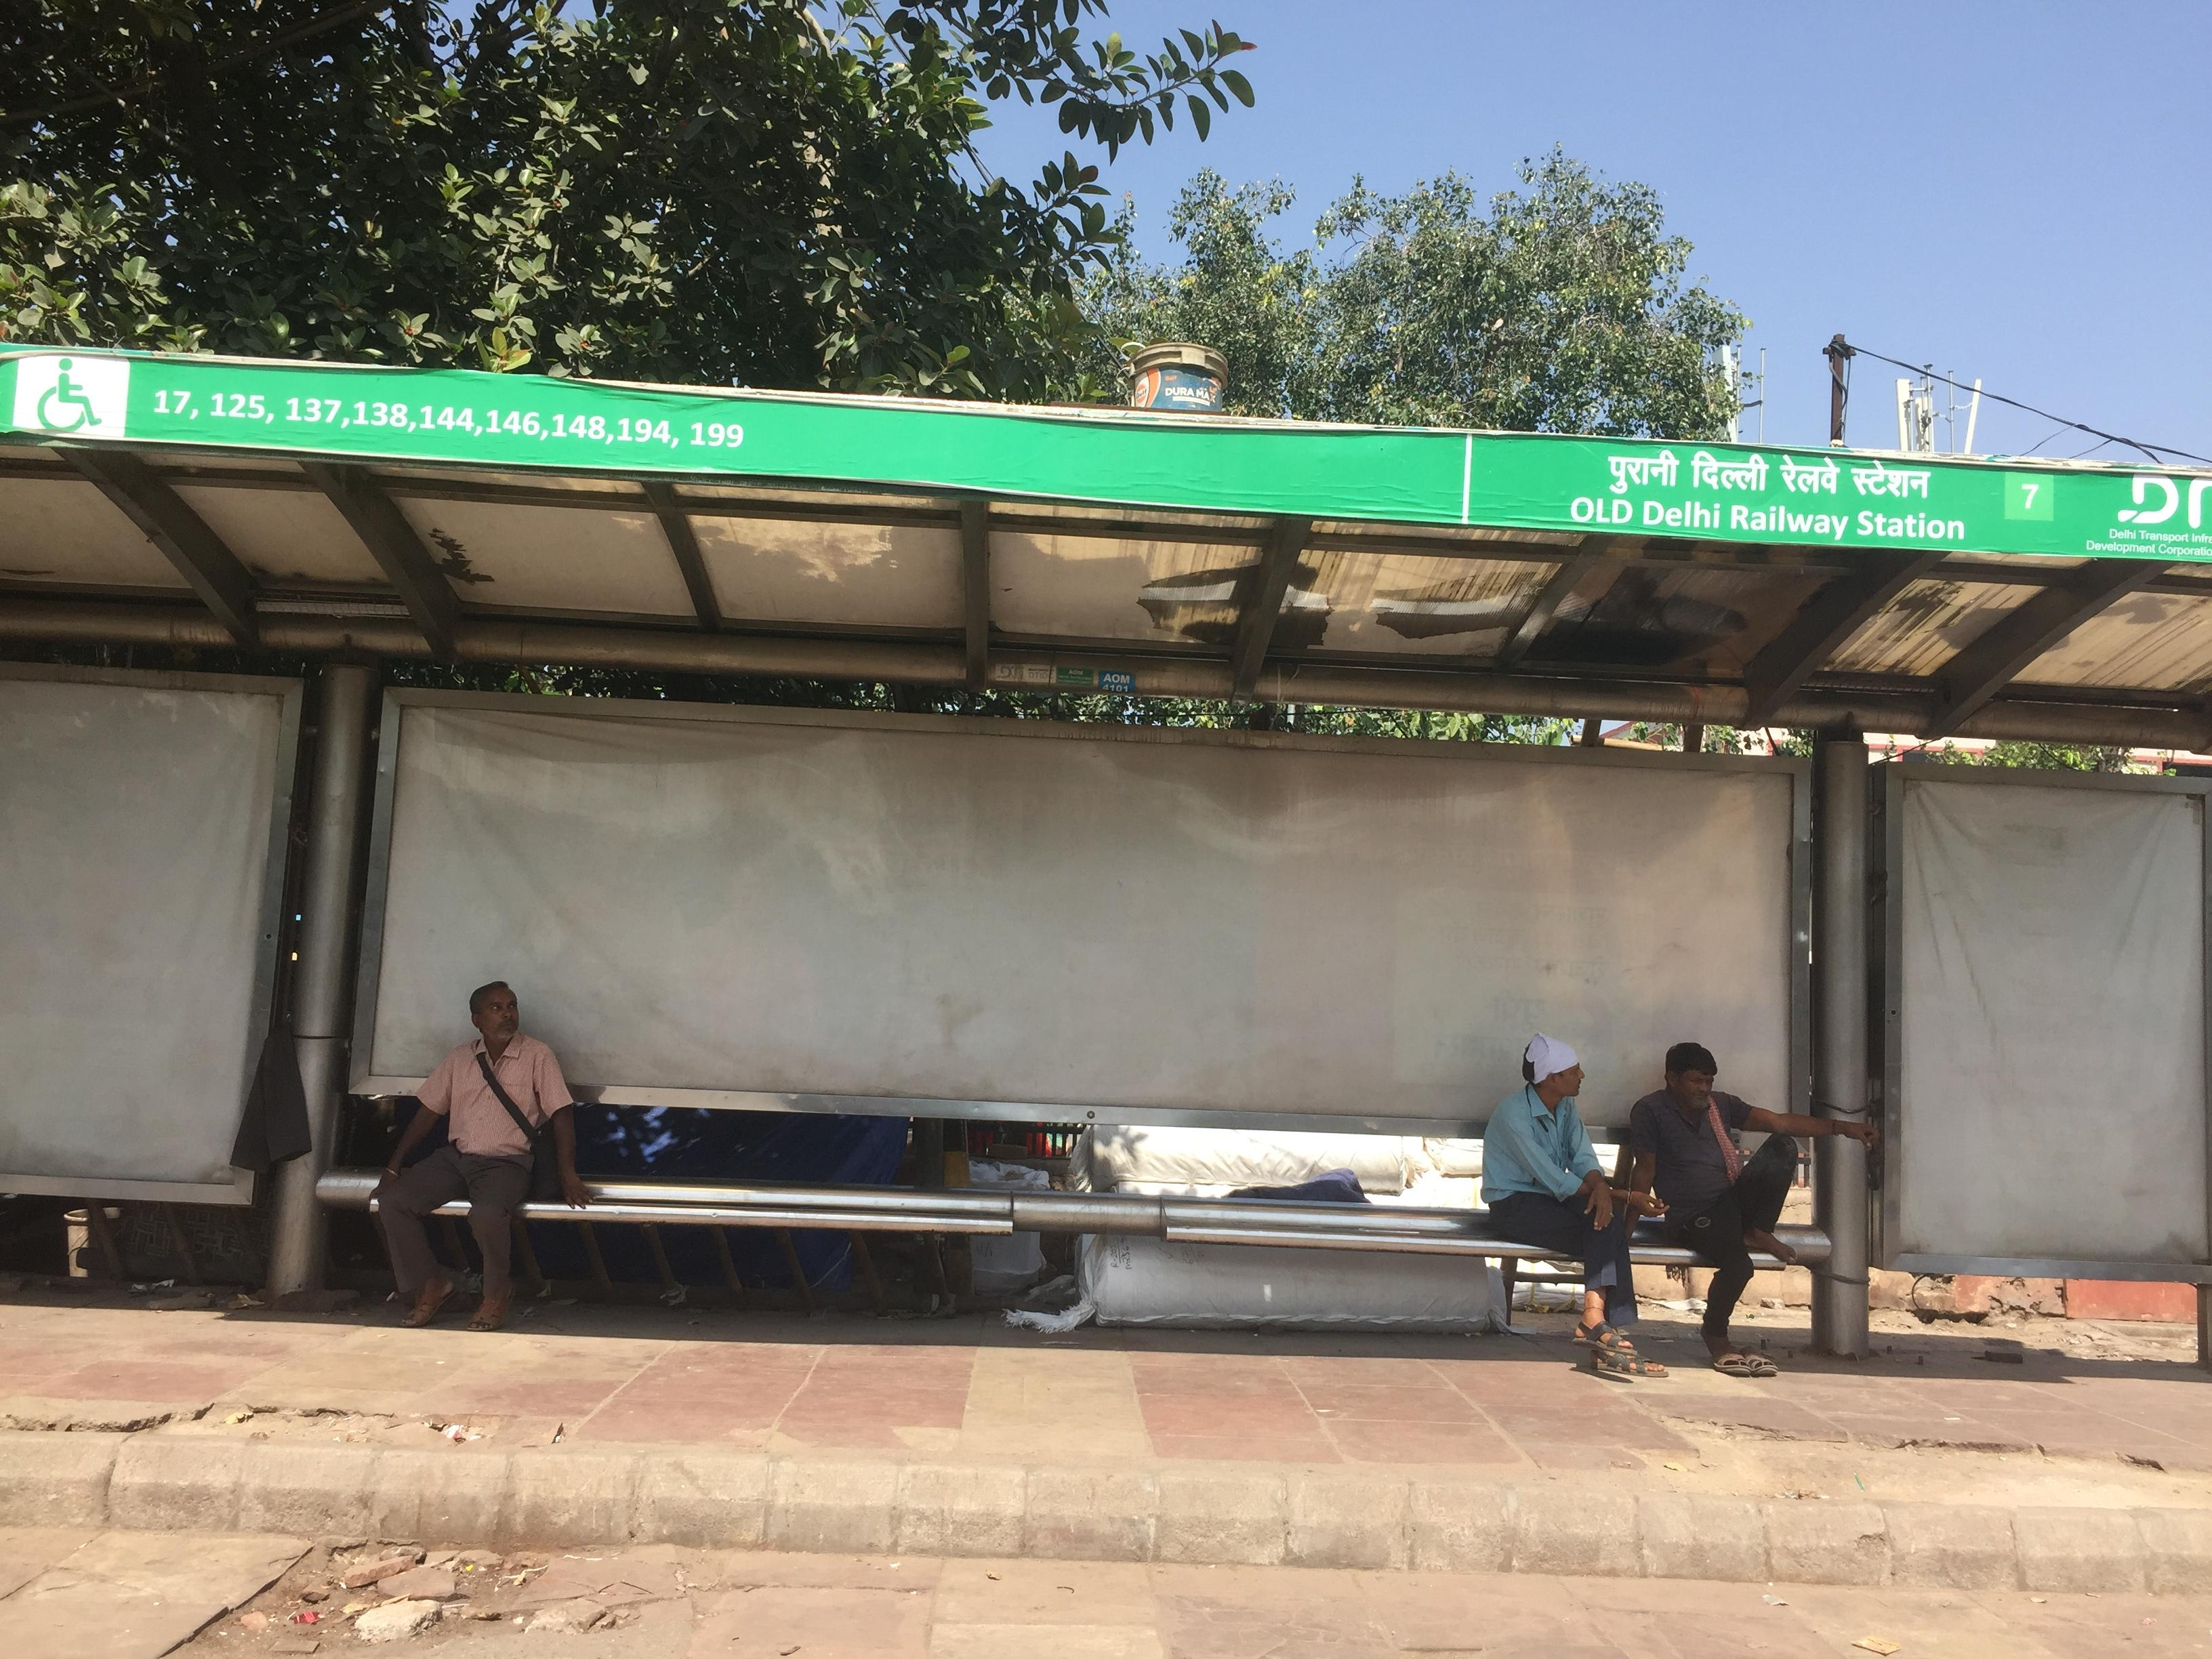Bus-stop-board: (0, 362, 2202, 545)
